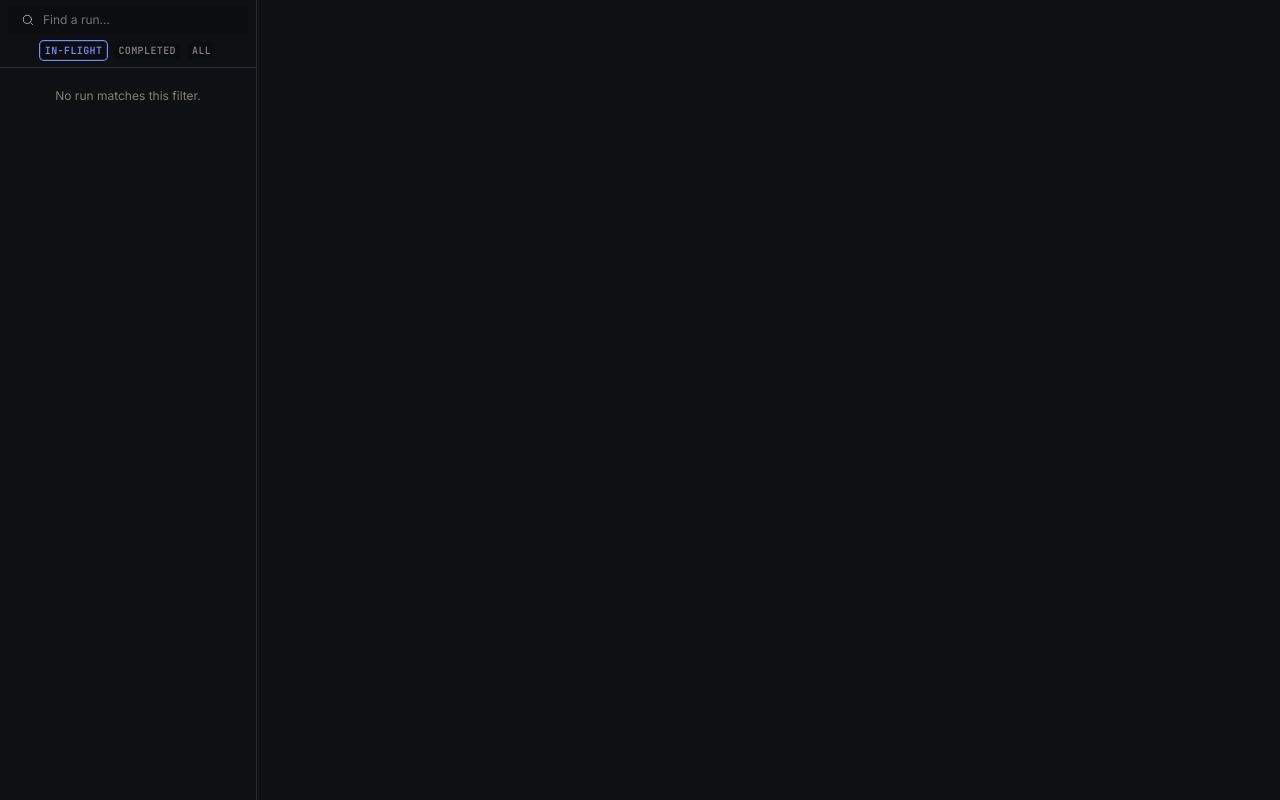
Test: the rail's Restart › GRT-FR-AMHS: on the run already selected, it opens the confirmation, and opens it again after a Cancel
expect the element with test id "graduation-section" is shown: met, box [0, 0, 260, 799]
Click the radio button labelled "All" at (202, 50), box [186, 40, 217, 61]
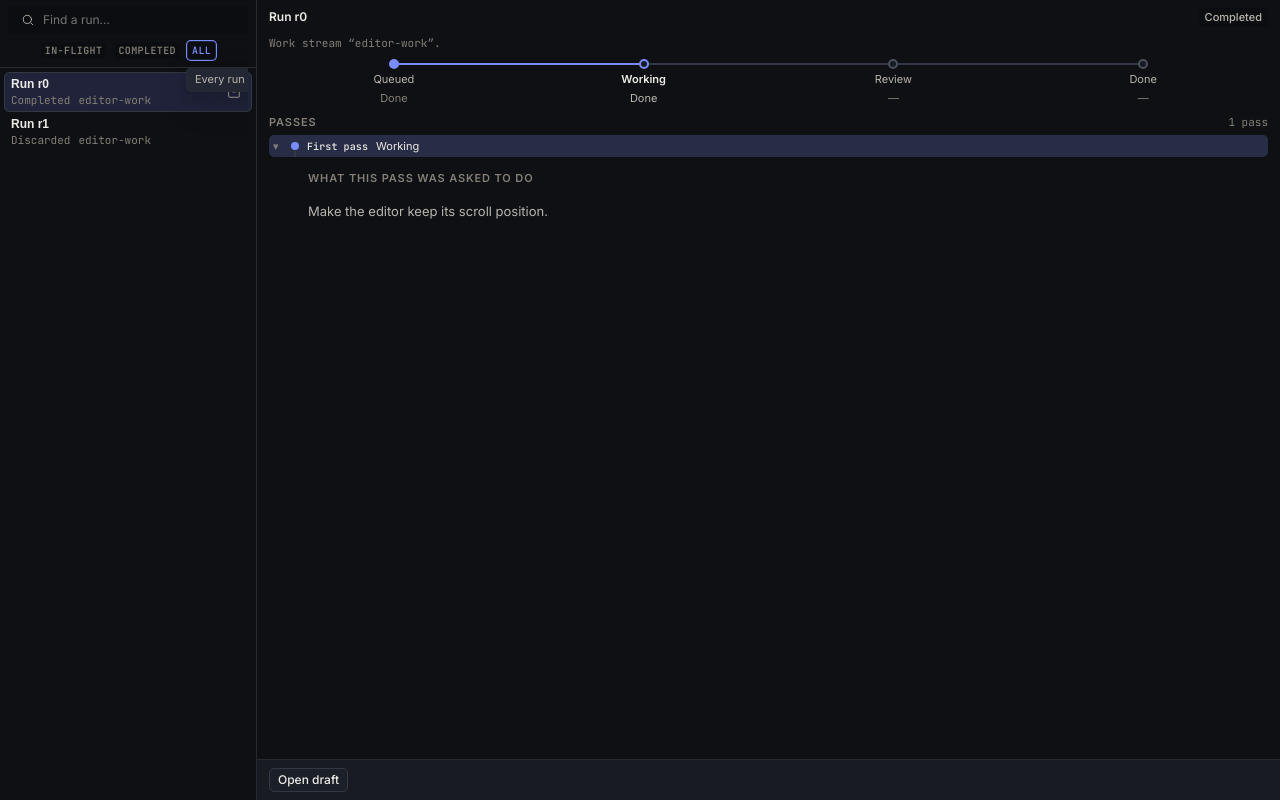
Click the button "Run r1 Discarded editor-work" at (94, 132), box [5, 113, 183, 151]
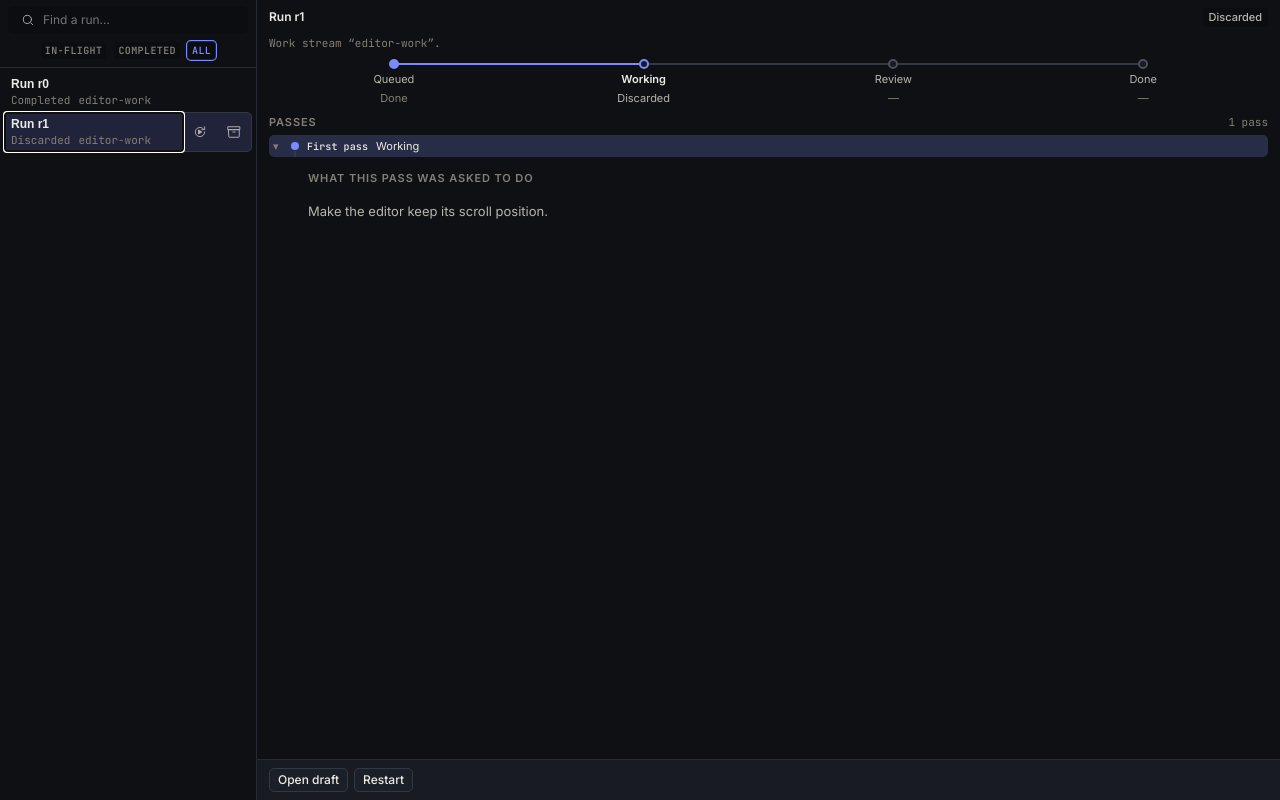
expect the element named "The selected run" has attribute data-run="r1": met
Click the button named "Restart “Run r1”" at (200, 132), box [185, 118, 215, 146]
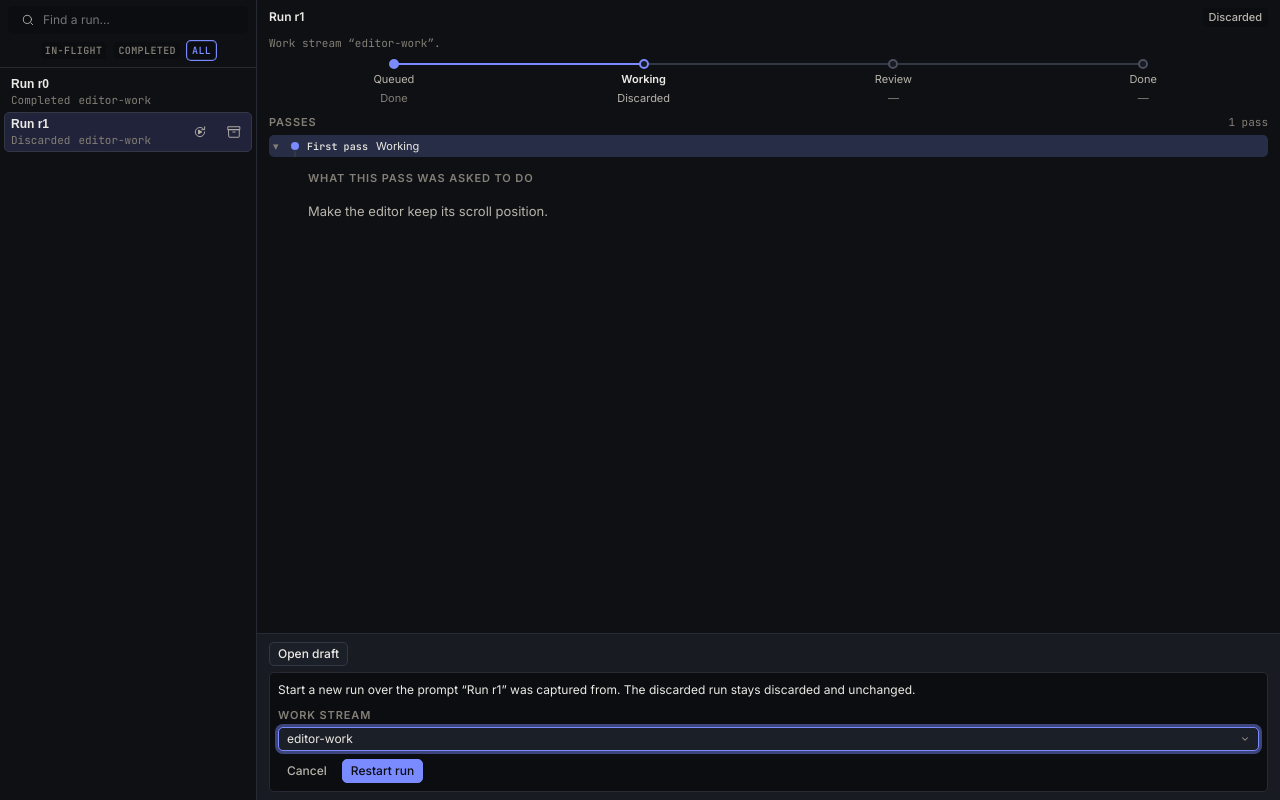
Click the button "Cancel" at (307, 771), box [278, 759, 336, 783]
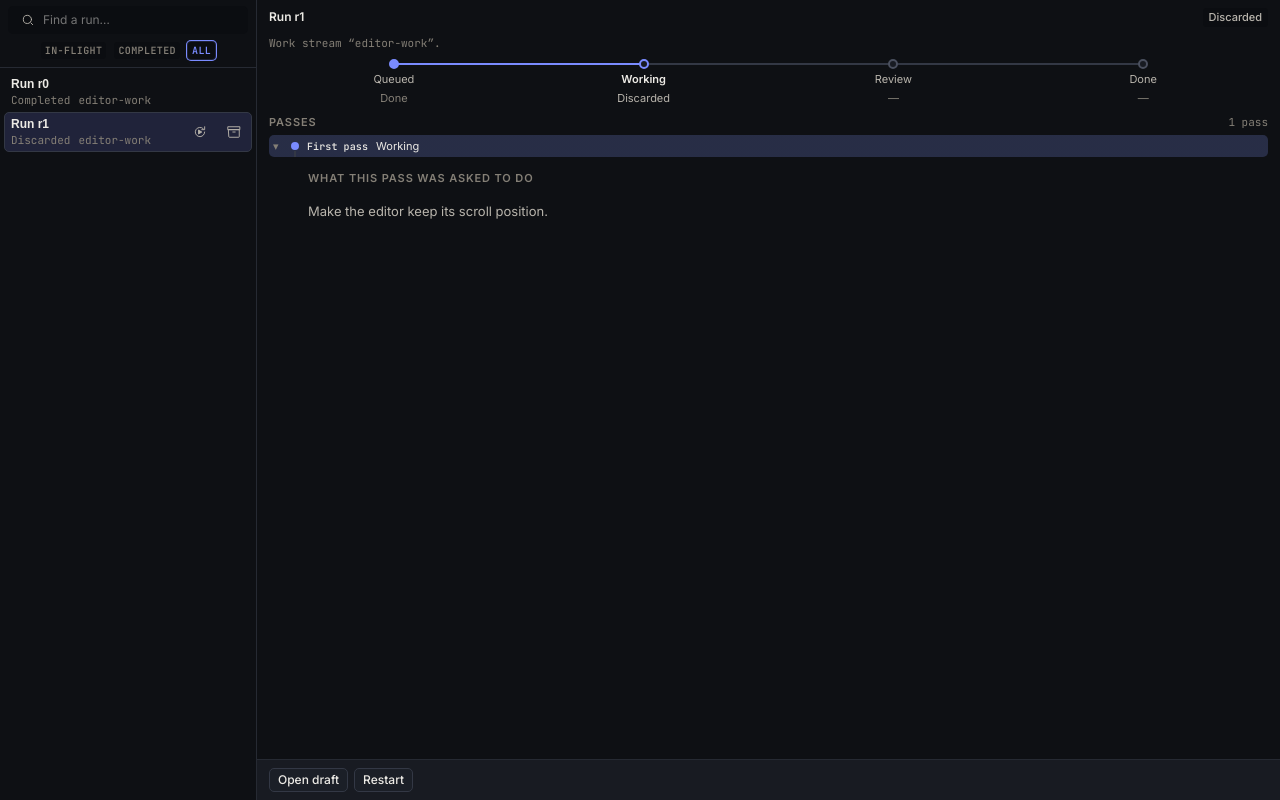
expect the element with test id "graduation-restart-confirm" is gone: met
Click the button named "Restart “Run r1”" at (200, 132), box [185, 118, 215, 146]
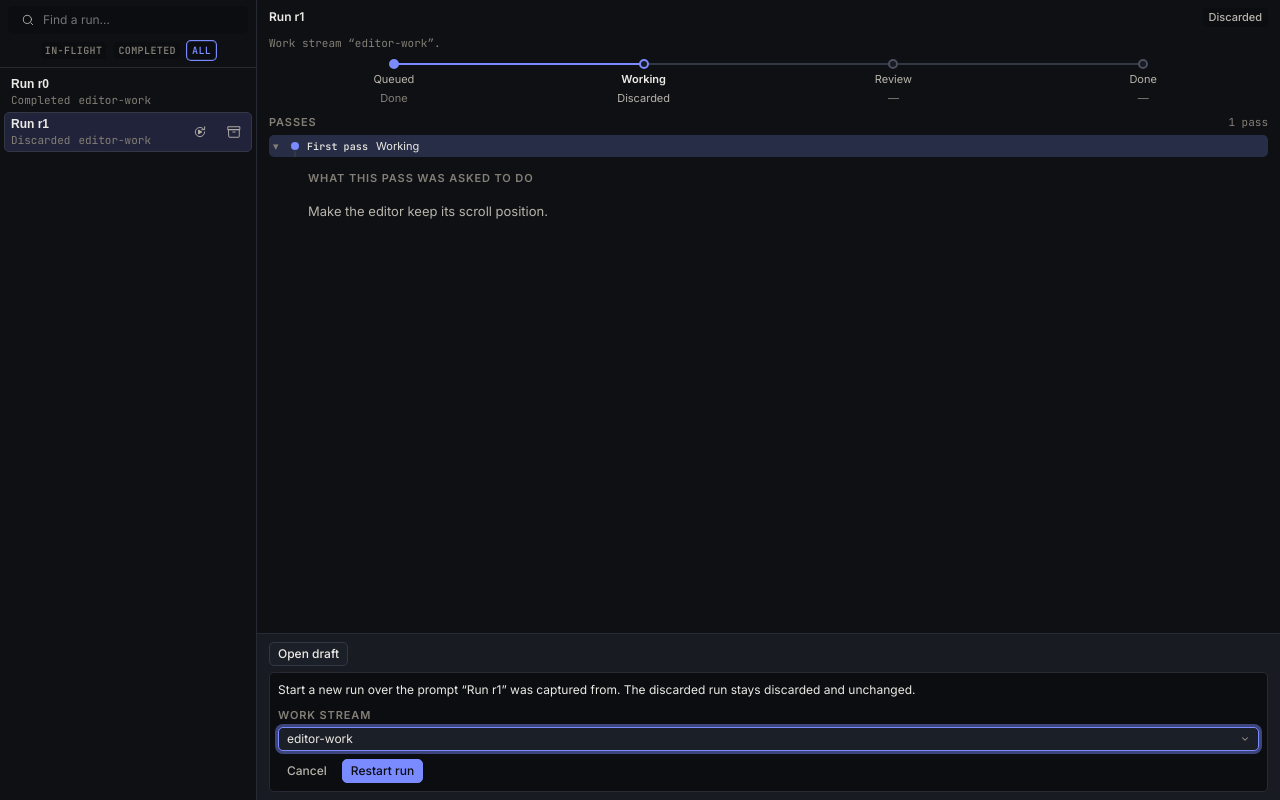
Click the button "Cancel" at (307, 771), box [278, 759, 336, 783]
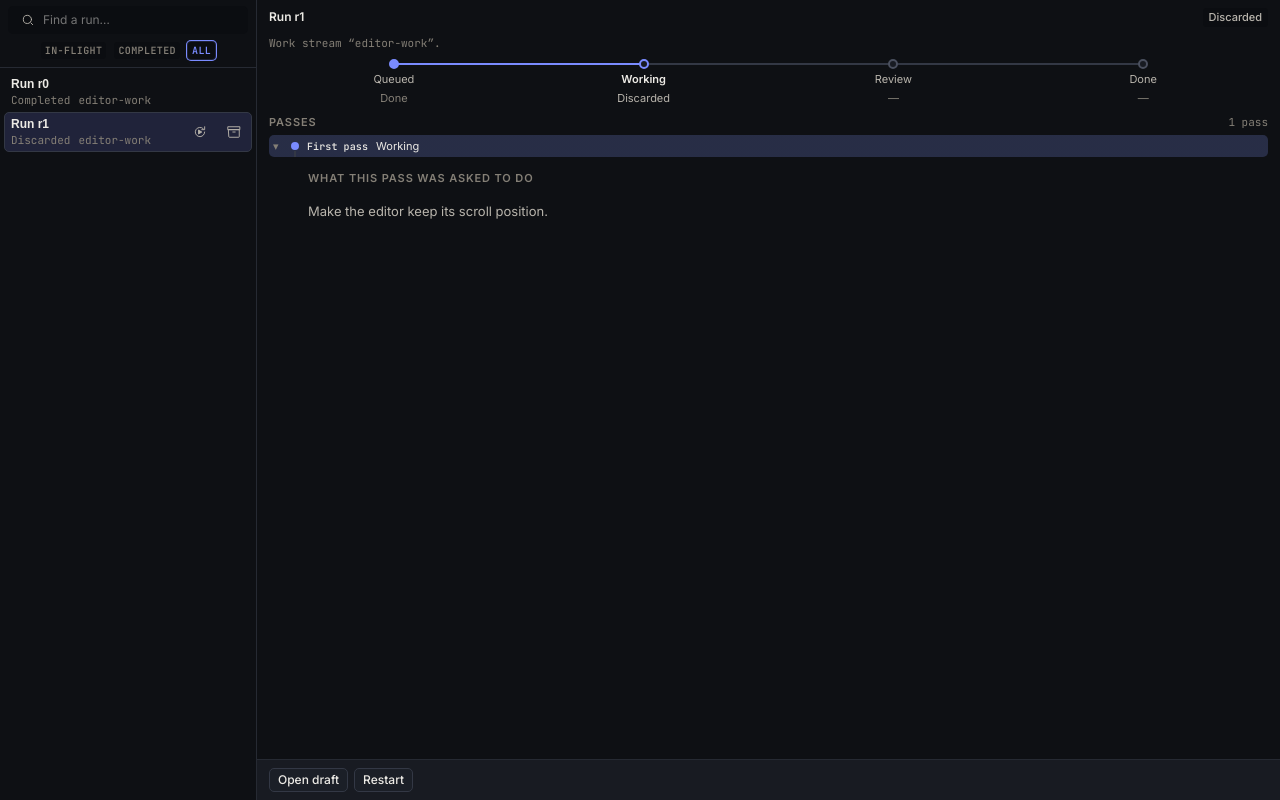
expect the element with test id "graduation-restart-confirm" is gone: met
